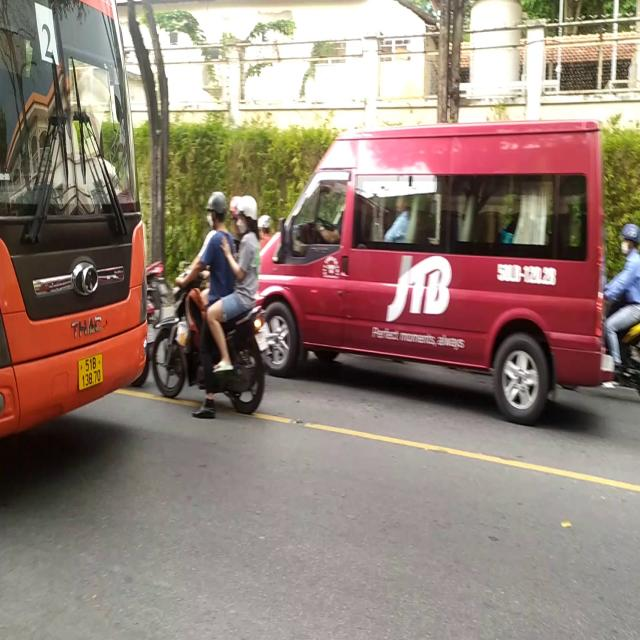bien_vang: (75, 349, 103, 392)
